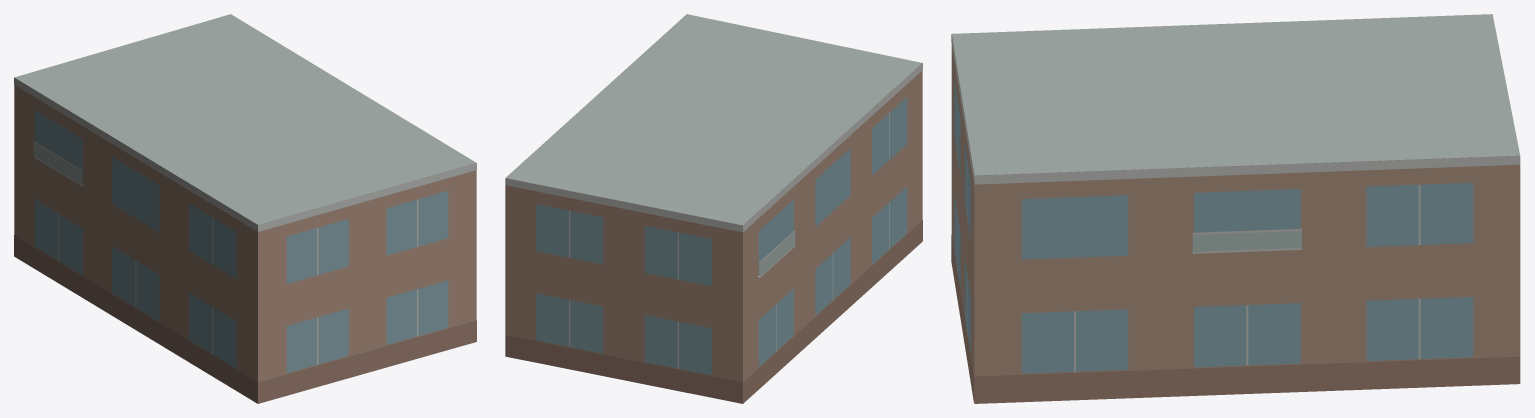
Rendered from survey-upis-32655261.glb.
The picture shows the model from 3 angles, left to right: view 1: azimuth 30°, elevation 25°; view 2: azimuth 150°, elevation 25°; view 3: azimuth 270°, elevation 25°; orthographic projection. The views are drawn at different scales.
Visible parts, largest first — view 1: survey-upis-32655261.tmp; view 2: survey-upis-32655261.tmp; view 3: survey-upis-32655261.tmp.
Boxes of the visible parts, box(x1,y1,x2,y2) form: survey-upis-32655261.tmp: box(14, 14, 476, 403); survey-upis-32655261.tmp: box(505, 14, 922, 403); survey-upis-32655261.tmp: box(951, 14, 1520, 403).
Bounding box in the file's own units: 9.26 × 6.1 × 13.78.
